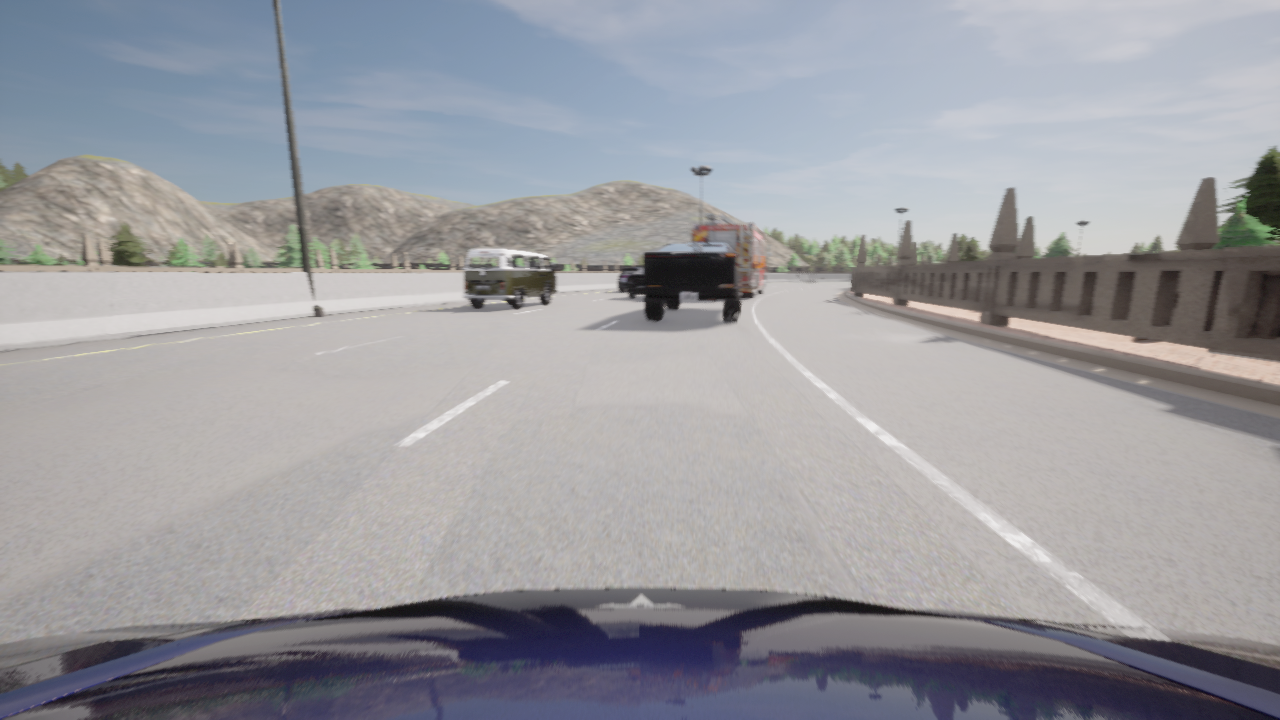cyclist: (0, 588, 1279, 719), (643, 242, 740, 321), (691, 214, 771, 298), (461, 248, 555, 308), (617, 267, 643, 291), (626, 268, 644, 298)
pedestrian: (877, 263, 879, 266), (885, 264, 887, 265), (894, 264, 895, 265)
